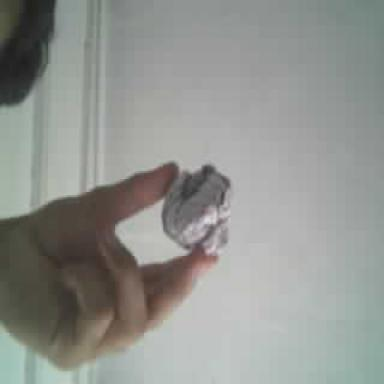paper: (163, 166, 232, 253)
